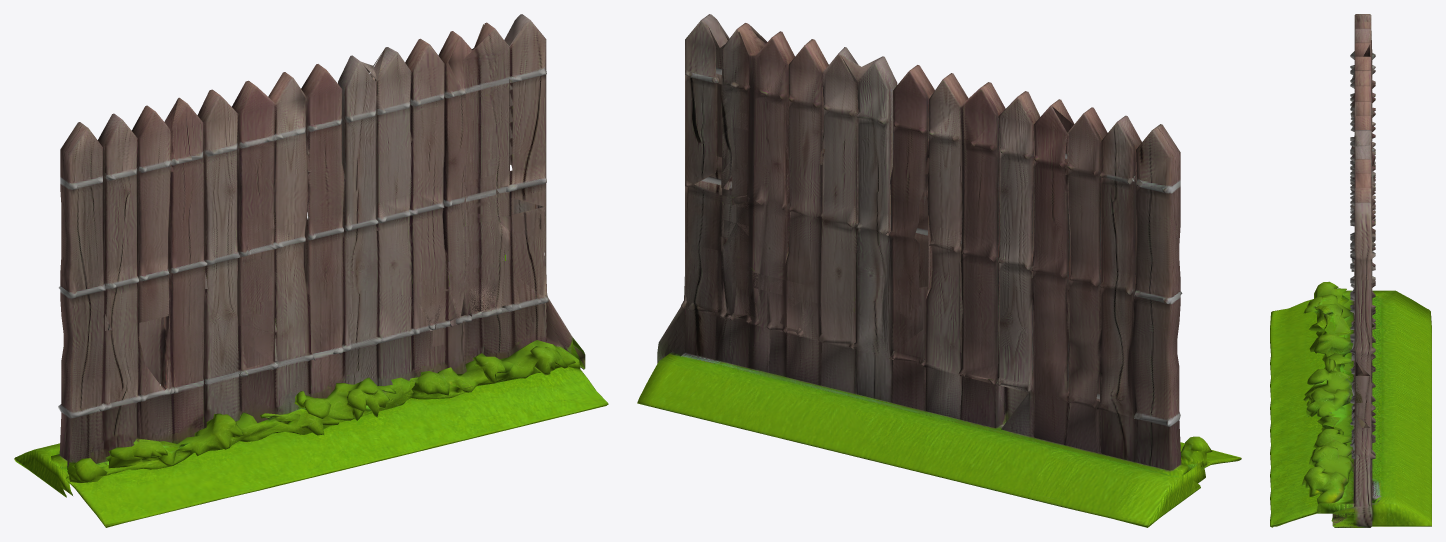
File: fence.glb
The picture shows the model from 3 angles, left to right: view 1: azimuth 30°, elevation 25°; view 2: azimuth 150°, elevation 25°; view 3: azimuth 270°, elevation 25°; orthographic projection. The views are drawn at different scales.
Size of the model in its own units: 1.95 by 1.29 by 0.6067.
1 material, 1 textured.
